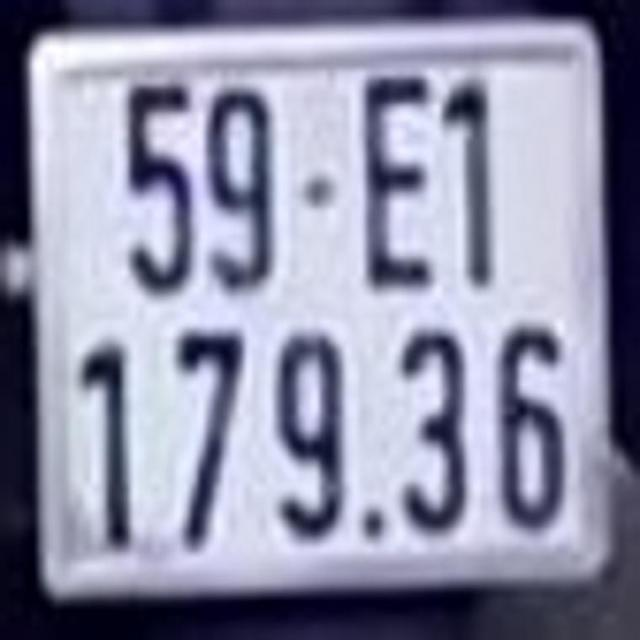1: (78, 330, 142, 549), (440, 72, 501, 287)
3: (398, 322, 476, 536)
5: (120, 78, 196, 294)
6: (490, 310, 569, 534)
7: (170, 314, 247, 549)
9: (272, 322, 347, 543), (200, 76, 276, 294)
E: (358, 72, 434, 291)
